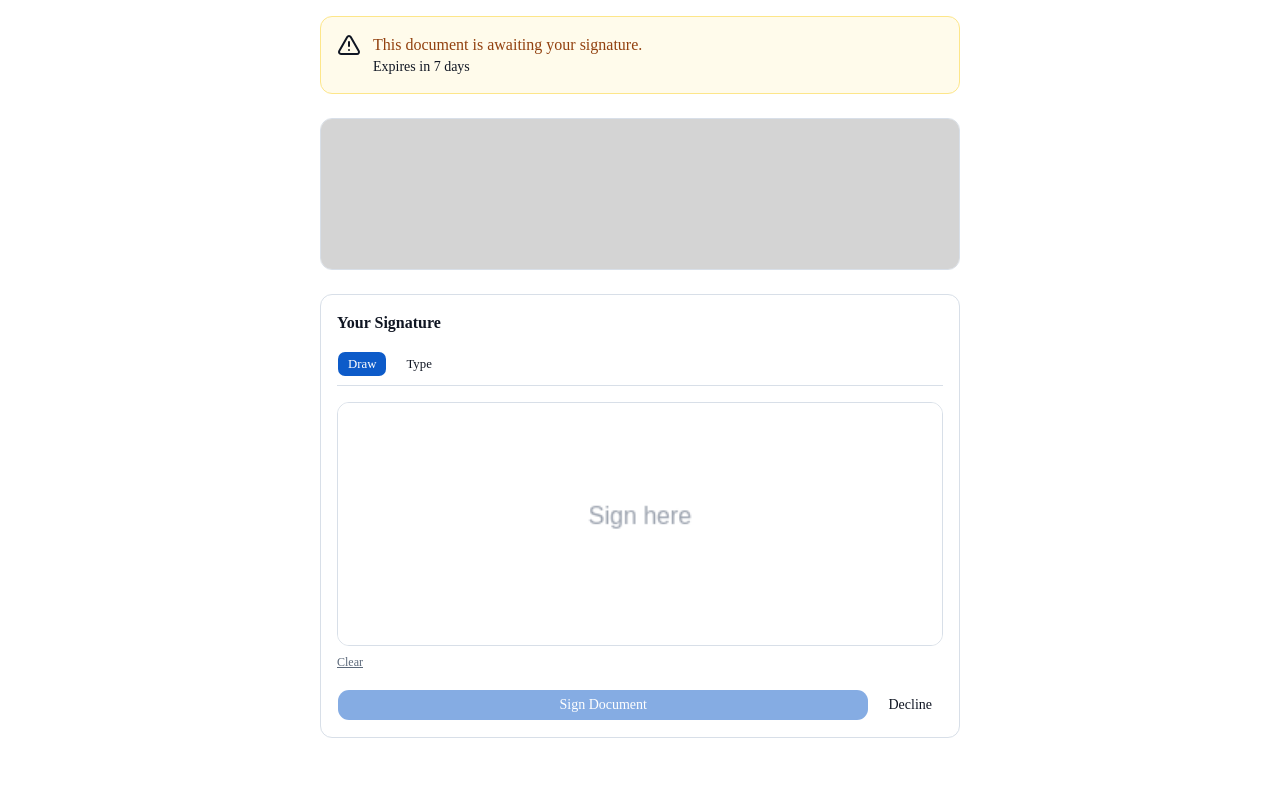
Scenario: eSign Regression Tests › SignerView › opens decline modal on decline click
Step 1. Click the button "Decline" → (910, 705), box 878,689 -> 943,721
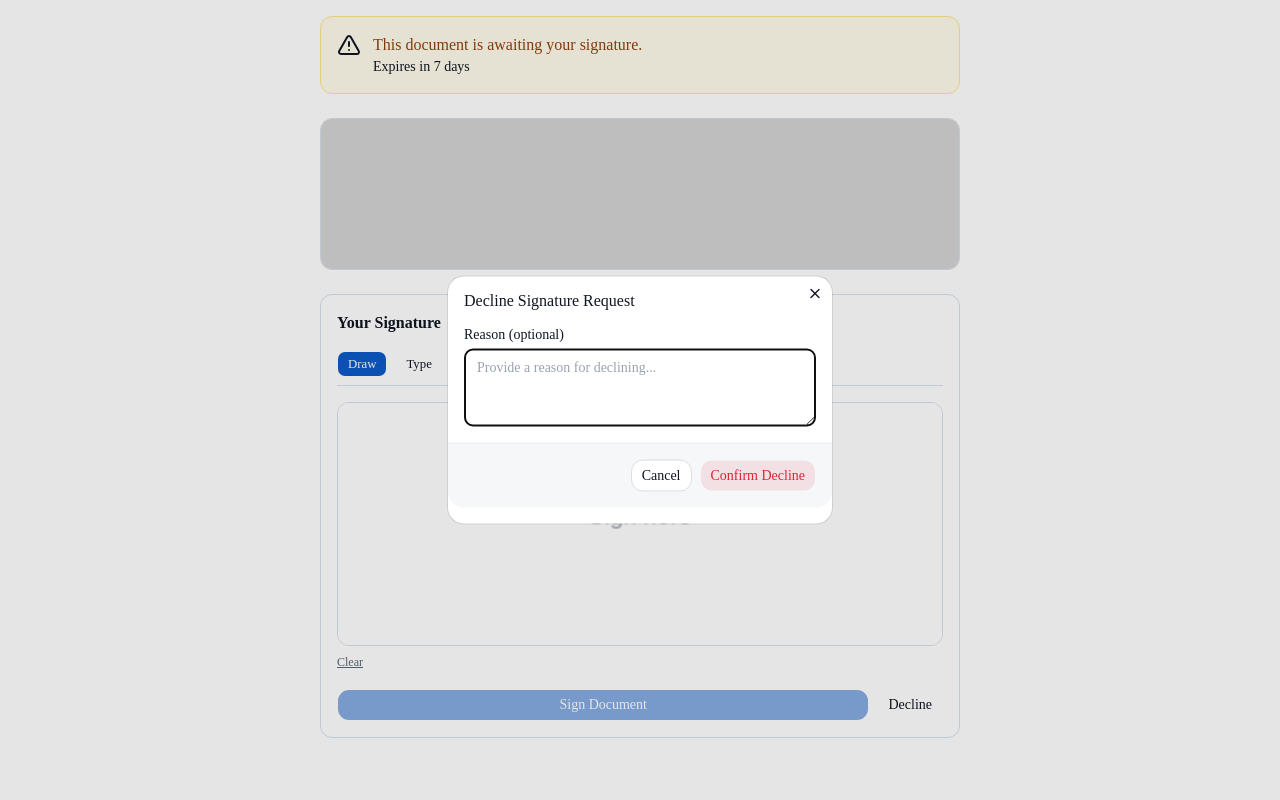
Expected: the heading "Decline Signature Request" is shown, 464,292 -> 635,308
